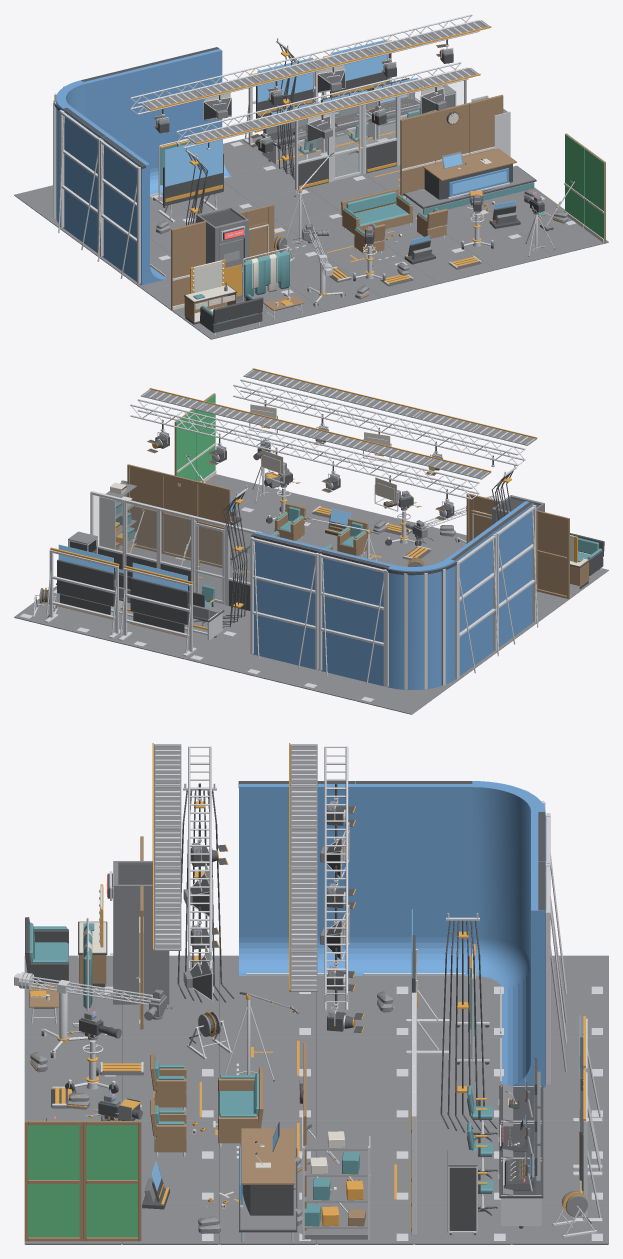
The model's file is 35527_Studio_Floor_and_Production_Gallery__TV_Studio_and_Broadcast_Gallery_.glb.
The picture shows the model from 3 angles, top to bottom: view 1: azimuth 30°, elevation 25°; view 2: azimuth 150°, elevation 25°; view 3: azimuth 270°, elevation 25°; orthographic projection. The views are drawn at different scales.
Parts seen in each view (by area): view 1: 046-cyclorama-straight-section/0, 043-cyclorama-straight-section/0, 044-cyclorama-straight-section/0, 045-cyclorama-straight-section/0, 069-set-flat/0, 125-set-flat/0, 083-weather-presentation-screen/1, 046-cyclorama-straight-section/1, 035-studio-floor-tile/1, 019-studio-floor-tile/1, 020-studio-floor-tile/1, 041-studio-floor-tile/1 (+87 smaller); view 2: 042-cyclorama-corner-section/0, 044-cyclorama-straight-section/0, 043-cyclorama-straight-section/0, 046-cyclorama-straight-section/0, 045-cyclorama-straight-section/0, 125-set-flat/0, 070-set-flat/0, 042-cyclorama-corner-section/1, 061-monitor-wall-frame/1, 069-set-flat/0, 062-monitor-wall-frame/1, 071-set-flat/0 (+65 smaller); view 3: 045-cyclorama-straight-section/0, 046-cyclorama-straight-section/0, 042-cyclorama-corner-section/0, 075-green-screen-flat/1, 076-green-screen-flat/1, 126-studio-door-with-soundlock/0, 044-cyclorama-straight-section/0, 020-studio-floor-tile/1, 014-studio-floor-tile/1, 009-studio-floor-tile/1, 015-studio-floor-tile-marked/1, 008-studio-floor-tile/1 (+87 smaller).
Boxes of the visible parts, x1=… form: 046-cyclorama-straight-section/0: x1=102, y1=135, x2=166, y2=285; 043-cyclorama-straight-section/0: x1=81, y1=64, x2=162, y2=194; 044-cyclorama-straight-section/0: x1=149, y1=47, x2=231, y2=192; 045-cyclorama-straight-section/0: x1=62, y1=106, x2=110, y2=252; 069-set-flat/0: x1=400, y1=111, x2=435, y2=196; 125-set-flat/0: x1=171, y1=221, x2=205, y2=309; 083-weather-presentation-screen/1: x1=165, y1=139, x2=222, y2=186; 046-cyclorama-straight-section/1: x1=97, y1=139, x2=165, y2=283; 035-studio-floor-tile/1: x1=464, y1=232, x2=551, y2=269; 019-studio-floor-tile/1: x1=224, y1=163, x2=295, y2=201; 020-studio-floor-tile/1: x1=250, y1=188, x2=339, y2=225; 041-studio-floor-tile/1: x1=519, y1=219, x2=608, y2=256; 042-cyclorama-corner-section/0: x1=388, y1=558, x2=455, y2=689; 044-cyclorama-straight-section/0: x1=251, y1=531, x2=323, y2=670; 043-cyclorama-straight-section/0: x1=319, y1=548, x2=392, y2=686; 046-cyclorama-straight-section/0: x1=486, y1=501, x2=533, y2=647; 045-cyclorama-straight-section/0: x1=447, y1=530, x2=494, y2=679; 125-set-flat/0: x1=536, y1=510, x2=569, y2=598; 070-set-flat/0: x1=161, y1=472, x2=195, y2=560; 042-cyclorama-corner-section/1: x1=385, y1=562, x2=458, y2=689; 061-monitor-wall-frame/1: x1=130, y1=577, x2=188, y2=632; 069-set-flat/0: x1=195, y1=481, x2=230, y2=569; 062-monitor-wall-frame/1: x1=57, y1=559, x2=114, y2=614; 071-set-flat/0: x1=127, y1=464, x2=161, y2=552; 045-cyclorama-straight-section/0: x1=355, y1=781, x2=472, y2=975; 046-cyclorama-straight-section/0: x1=239, y1=781, x2=355, y2=975; 042-cyclorama-corner-section/0: x1=472, y1=781, x2=545, y2=987; 075-green-screen-flat/1: x1=86, y1=1125, x2=137, y2=1237; 076-green-screen-flat/1: x1=28, y1=1125, x2=79, y2=1237; 126-studio-door-with-soundlock/0: x1=113, y1=861, x2=169, y2=1004; 044-cyclorama-straight-section/0: x1=502, y1=861, x2=545, y2=1087; 020-studio-floor-tile/1: x1=316, y1=1079, x2=411, y2=1120; 014-studio-floor-tile/1: x1=316, y1=1038, x2=411, y2=1078; 009-studio-floor-tile/1: x1=219, y1=996, x2=316, y2=1037; 015-studio-floor-tile-marked/1: x1=219, y1=1038, x2=316, y2=1078; 008-studio-floor-tile/1: x1=316, y1=996, x2=411, y2=1037.
Bounding box in the file's own units: 14.34 × 5.32 × 12.22.
